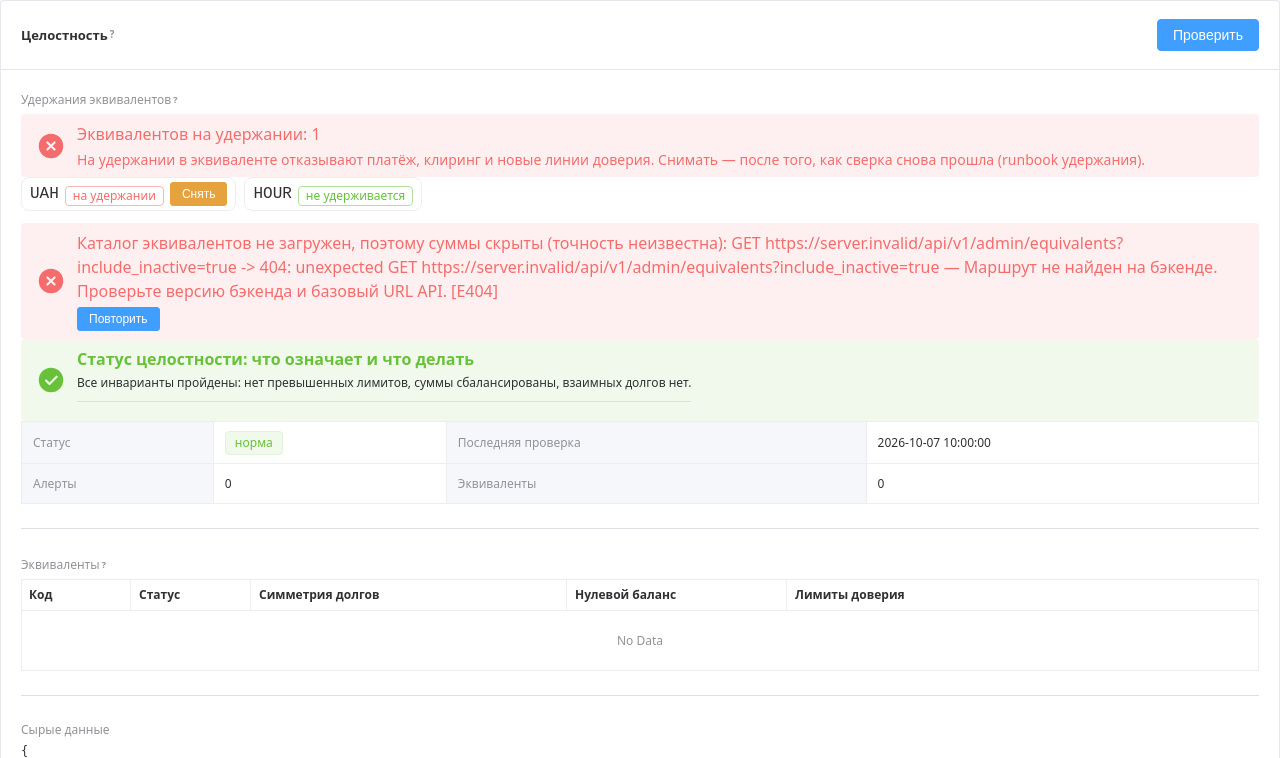
Scenario: Integrity screen: equivalent holds (032 F-4) › shows the refusal {"reason":"no_later_passed_reconciliation_result","latest_status":"FAILED","recheck_status":null} as text, not as a code
The width and height of the screenshot is (1280, 758).
Click the button "Снять".
click(199, 194)  # box [170,182,227,206]
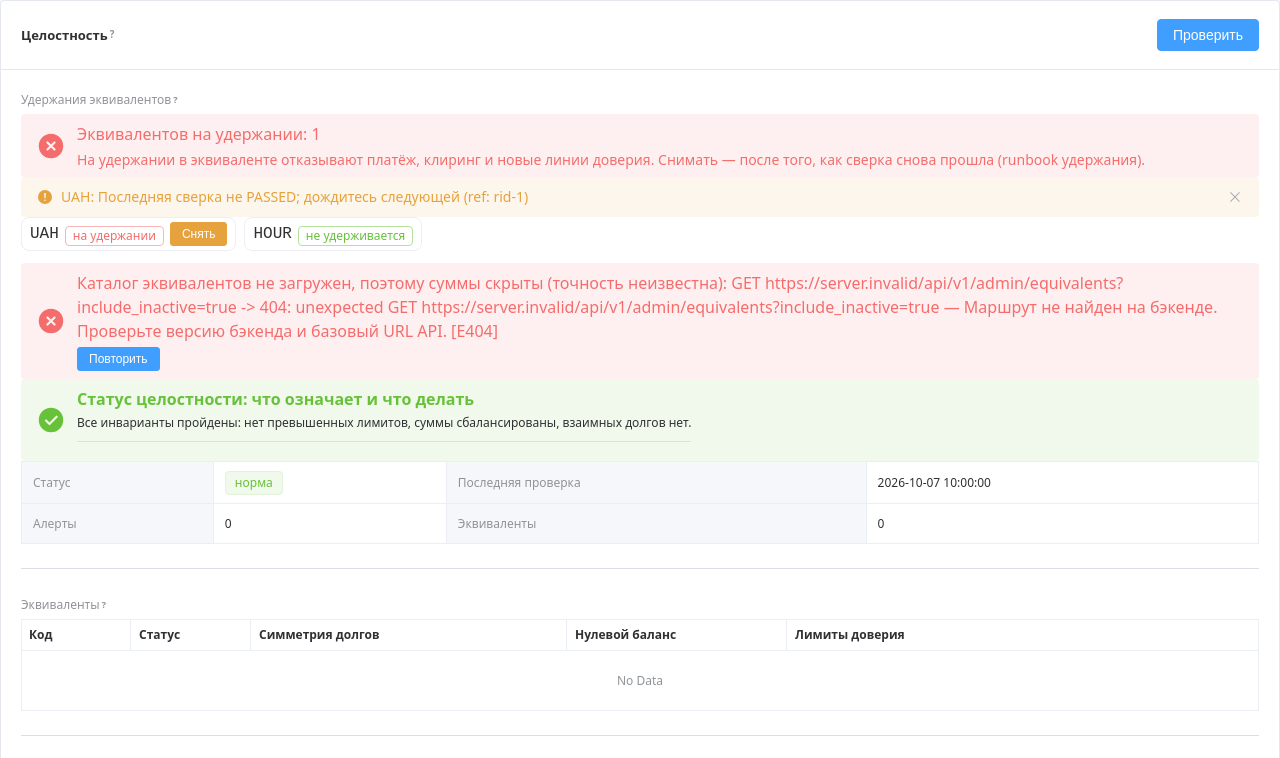
Check: the element with test id "integrity-hold-refusal" is shown, box [21,177,1259,217]
Check: the element with test id "integrity-hold-refusal" shows "Последняя сверка не PASSED; дождитесь следующей", box [61,187,528,206]
